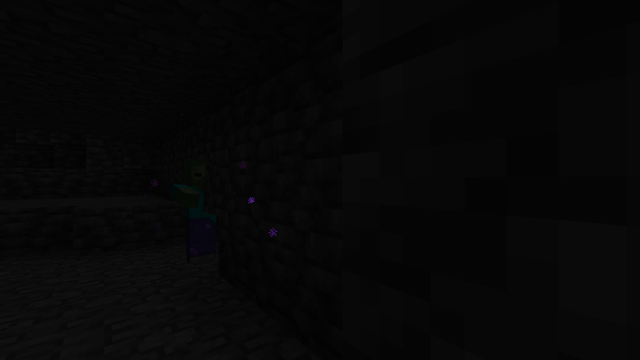zombies: (181, 162, 216, 267)
